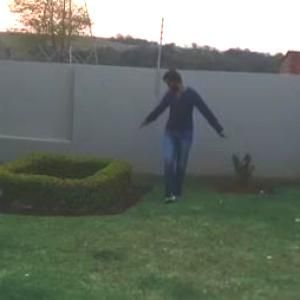land: (126, 66, 234, 215)
